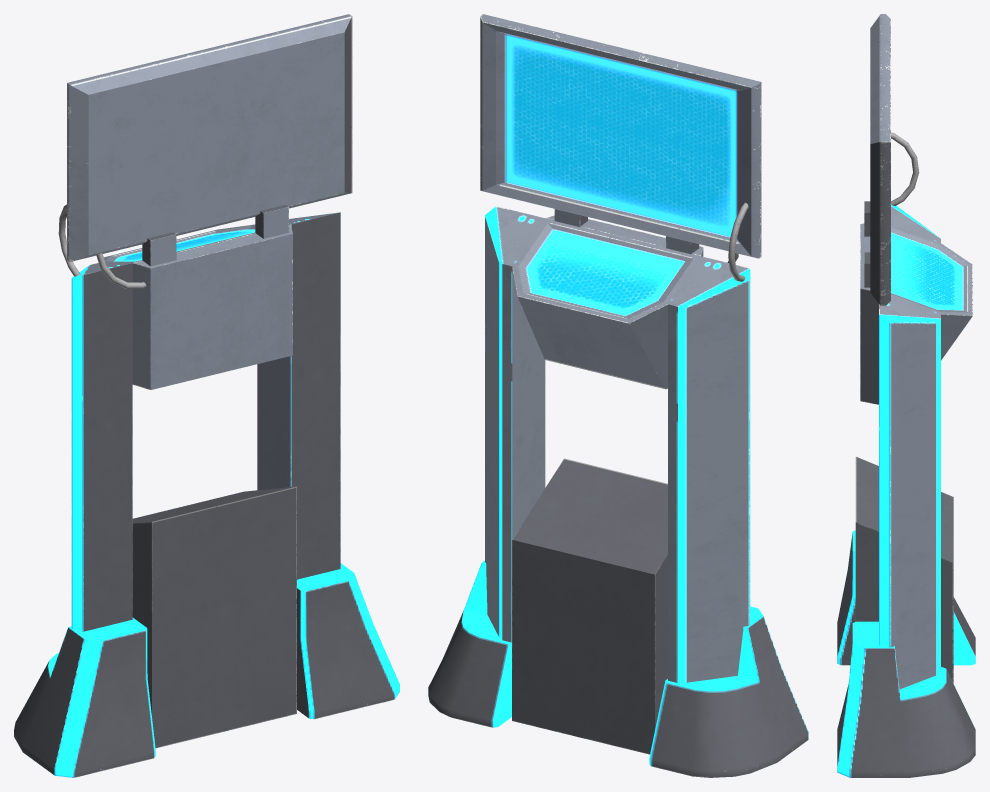
The model's file is terminal-transformed.glb.
The picture shows the model from 3 angles, left to right: view 1: azimuth 30°, elevation 25°; view 2: azimuth 150°, elevation 25°; view 3: azimuth 270°, elevation 25°; orthographic projection. The views are drawn at different scales.
Visible parts, largest first — view 1: Terminal1; view 2: Terminal1; view 3: Terminal1.
Boxes of the visible parts, x1,y1,x2,y2 form: Terminal1: (14, 14, 399, 777); Terminal1: (428, 14, 808, 777); Terminal1: (837, 14, 975, 777).
Bounding box in the file's own units: 84.99 × 158 × 31.84.
1 material, 1 textured.
